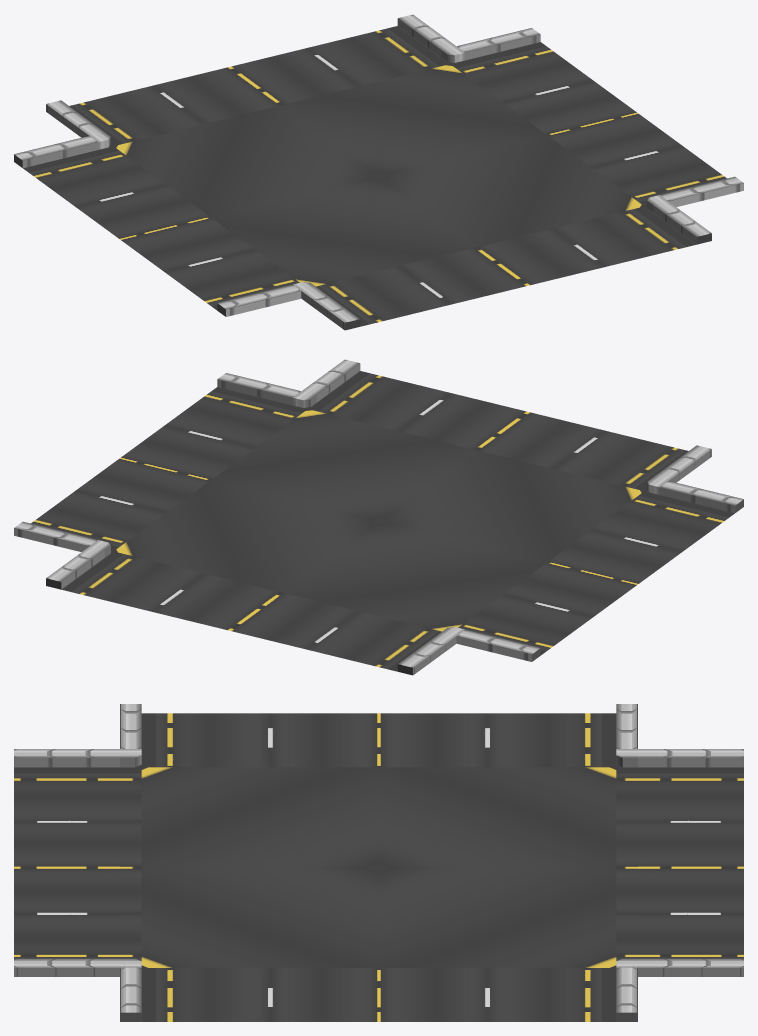
The model's file is 4WayIntersectionModel.fbx.
The picture shows the model from 3 angles, top to bottom: view 1: azimuth 30°, elevation 25°; view 2: azimuth 150°, elevation 25°; view 3: azimuth 270°, elevation 25°; orthographic projection. The views are drawn at different scales.
Visible parts, largest first — view 1: Plane; view 2: Plane; view 3: Plane.
Part boxes in pixels (x1,y1,x2,y2): Plane: (14,14,743,330); Plane: (14,359,743,675); Plane: (14,704,743,1021).
Bounding box in the file's own units: 3106 × 44 × 3105.
Materials: 1 (1 with a texture image).
